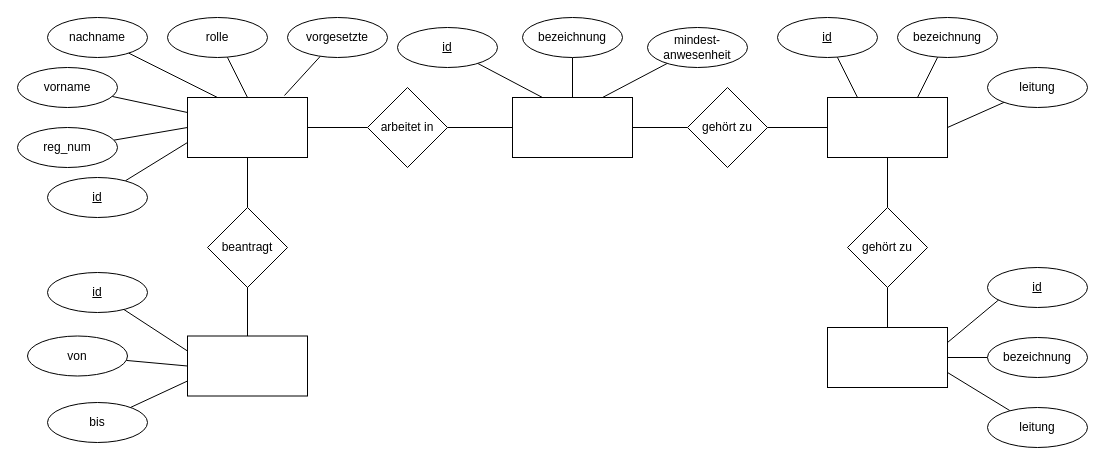
Image size: 1105x465. Some labels were removed from this diagram. Each missing label, with the box of its shape:
Abteilung: (826, 326, 948, 388)
Mitarbeiter: (186, 96, 308, 158)
Sachgebiet: (826, 96, 948, 158)
Team: (512, 96, 632, 158)
Urlaub: (186, 335, 308, 396)
